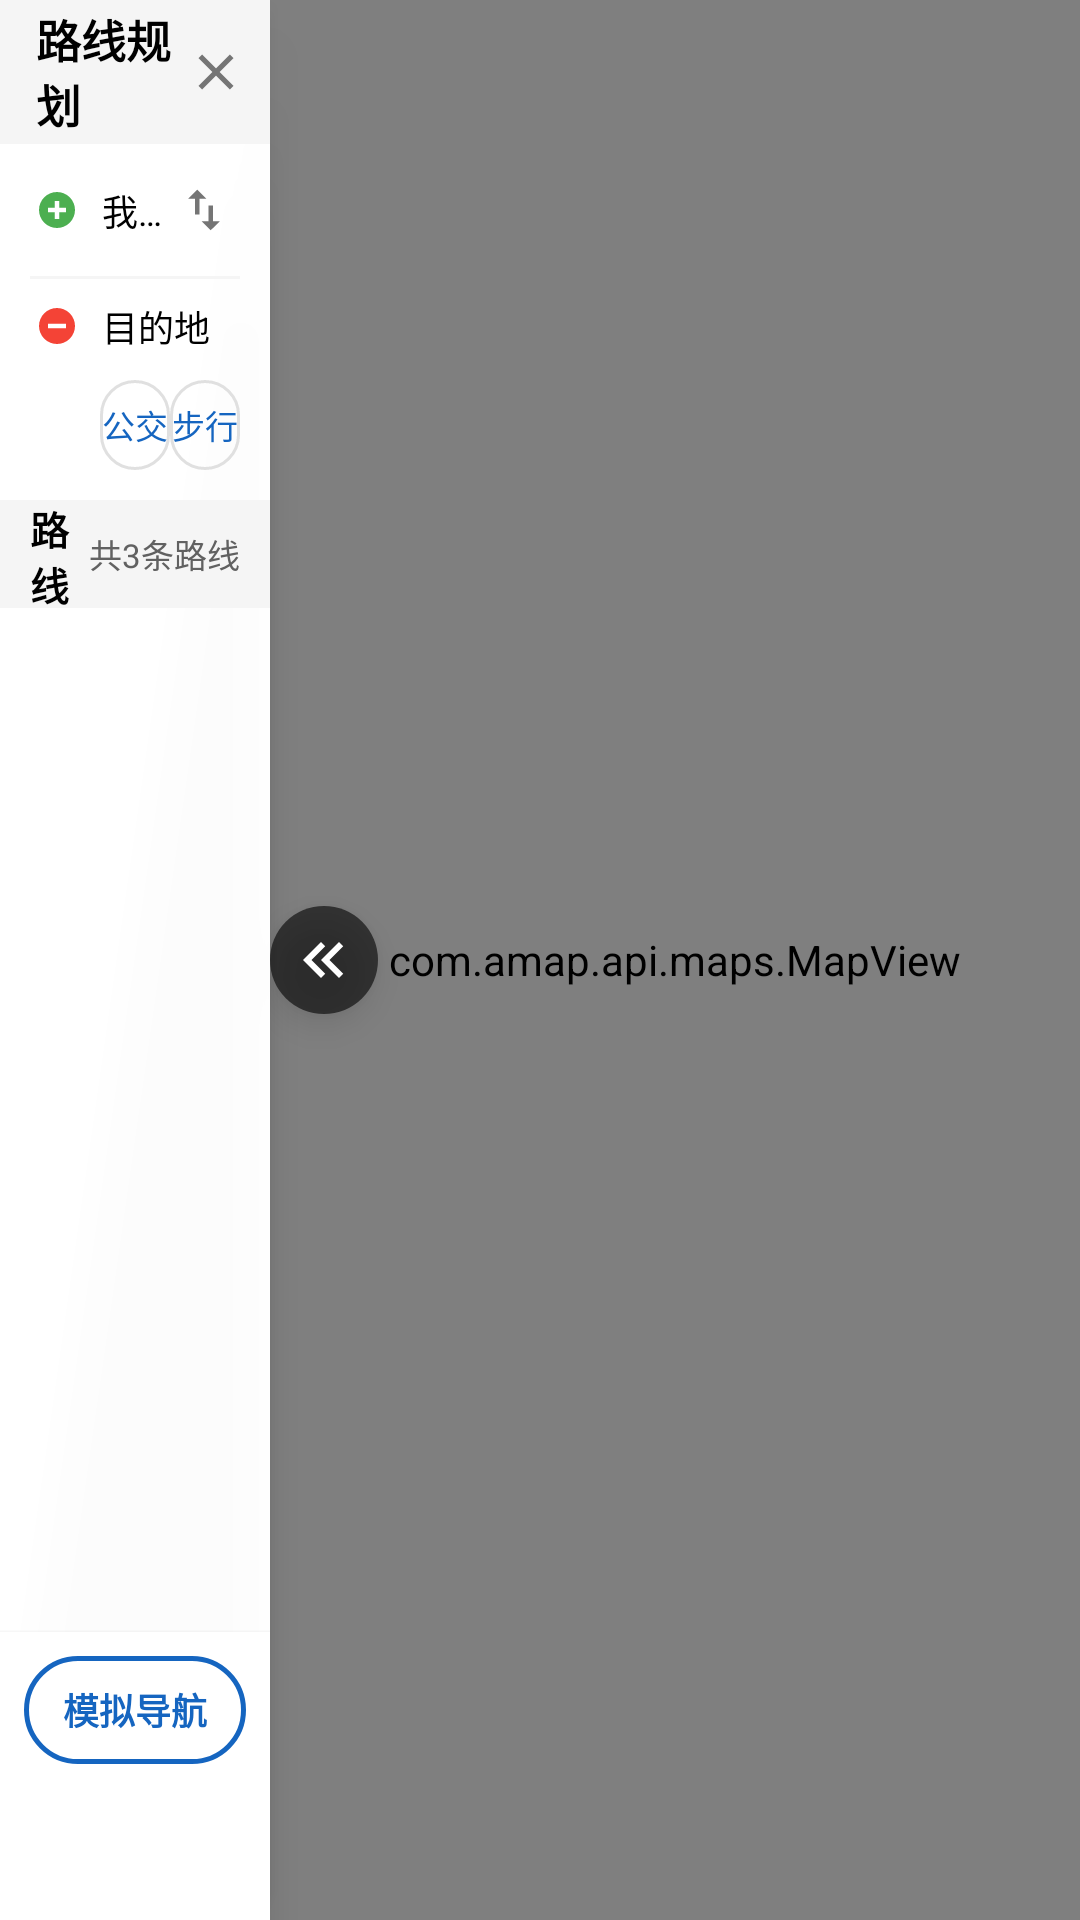

Named icons in this screenshot (1080 × 1920) and their bounding boxes, (x1, y1, x2, y2):
交换起终点: (188, 190, 220, 230)
关闭: (199, 55, 233, 89)
切换面板: (270, 906, 378, 1014)
终点: (39, 308, 75, 344)
起点: (39, 192, 75, 228)
